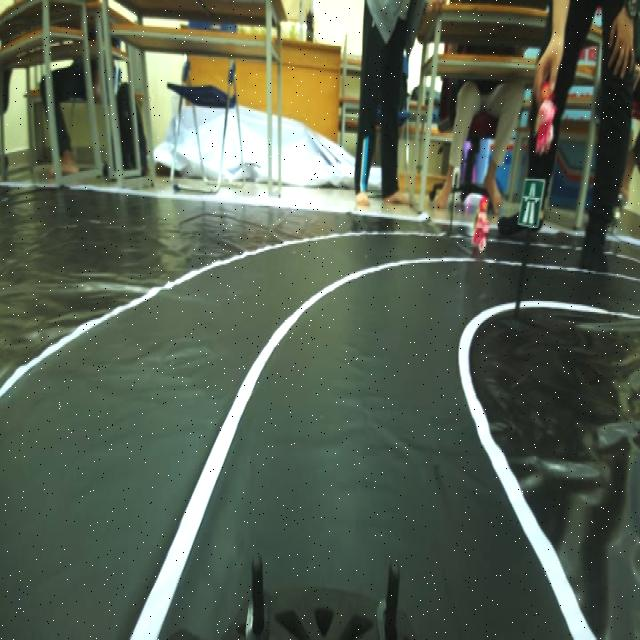highway_entry: (518, 168, 548, 242)
